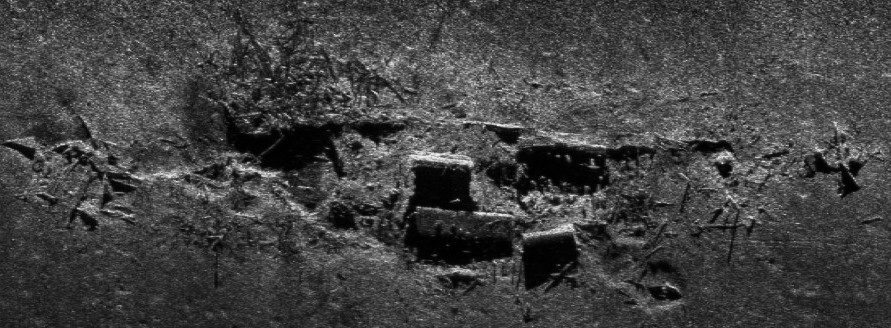ship: (123, 114, 655, 247)
